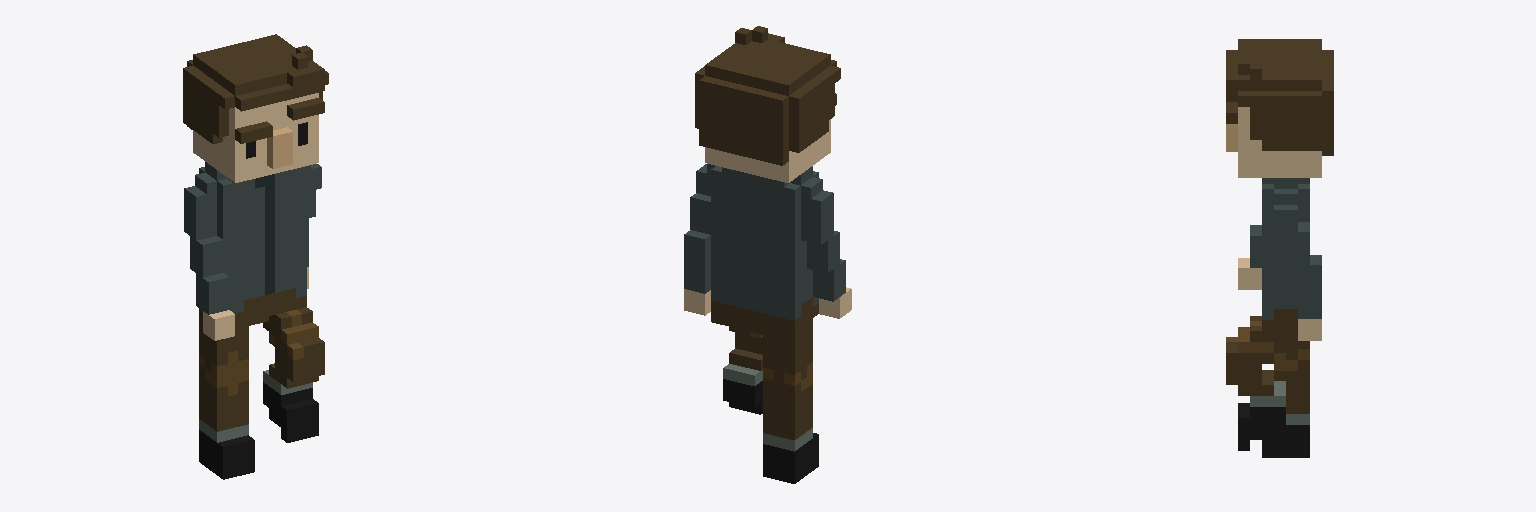
3 renders of one model, left to right at view 1: azimuth 30°, elevation 25°; view 2: azimuth 150°, elevation 25°; view 3: azimuth 270°, elevation 25°, orthographic.
Visible parts, largest first — view 1: WalkAnim1-7; view 2: WalkAnim1-7; view 3: WalkAnim1-7.
Part boxes in pixels (x1,y1,x2,y2): WalkAnim1-7: (183, 34, 328, 479); WalkAnim1-7: (684, 26, 851, 483); WalkAnim1-7: (1226, 39, 1333, 457).
Size of the model in its own units: 12 by 38 by 9.
Materials: 1 (1 with a texture image).